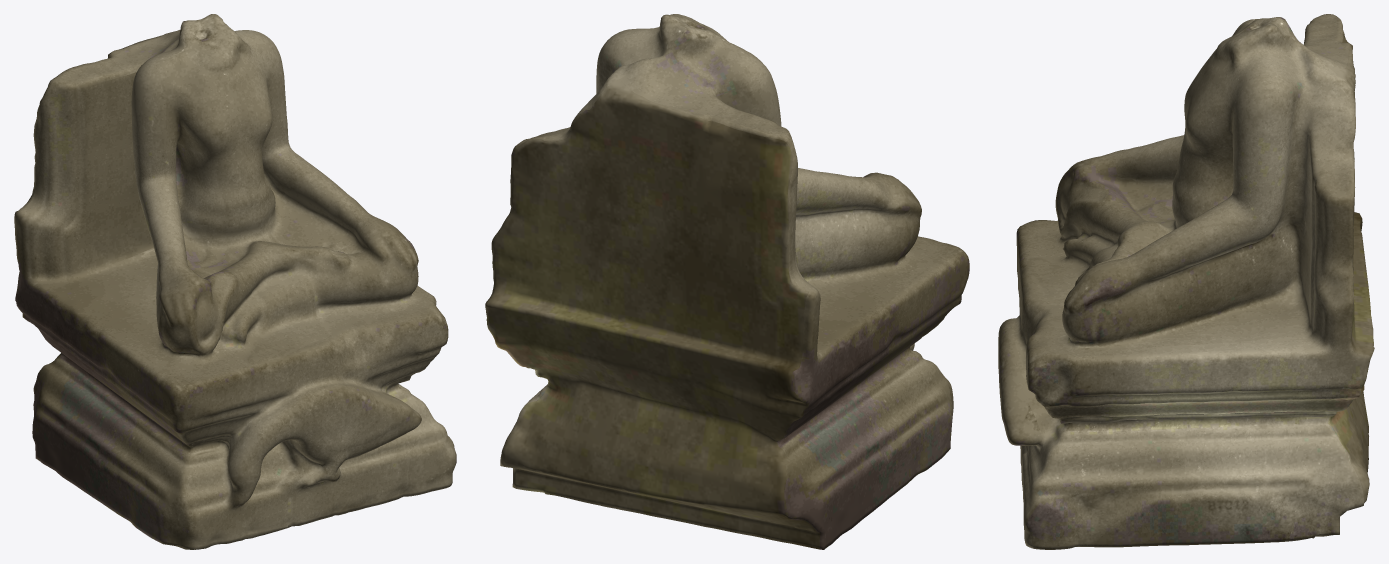
Rendered from 15_thanphuonghuong_varuna.glb.
3 renders of one model, left to right at view 1: azimuth 30°, elevation 25°; view 2: azimuth 150°, elevation 25°; view 3: azimuth 270°, elevation 25°, orthographic. The views are drawn at different scales.
Parts seen in each view (by area): view 1: remesh; view 2: remesh; view 3: remesh.
Part boxes in pixels (left/top/right/bottom): remesh: left=14, top=14, right=456, bottom=549; remesh: left=485, top=14, right=969, bottom=549; remesh: left=998, top=14, right=1374, bottom=549.
Bounding box in the file's own units: 0.3681 × 0.498 × 0.3737.
Materials: 1 (1 with a texture image).
